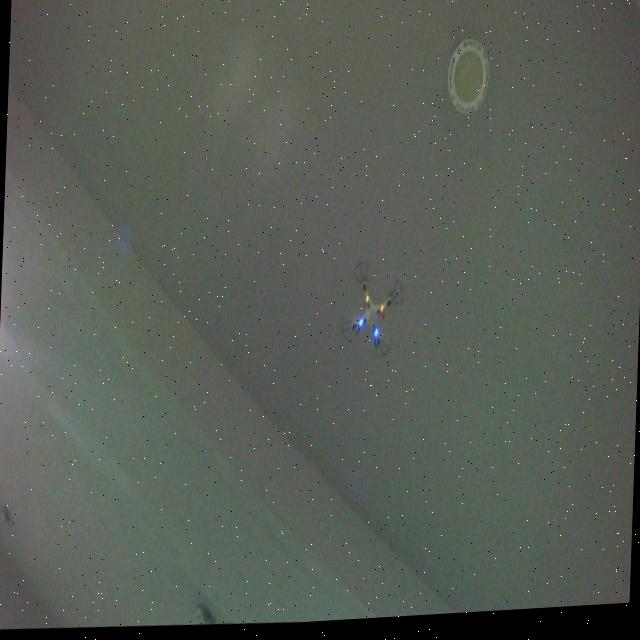drone: (336, 262, 406, 370)
